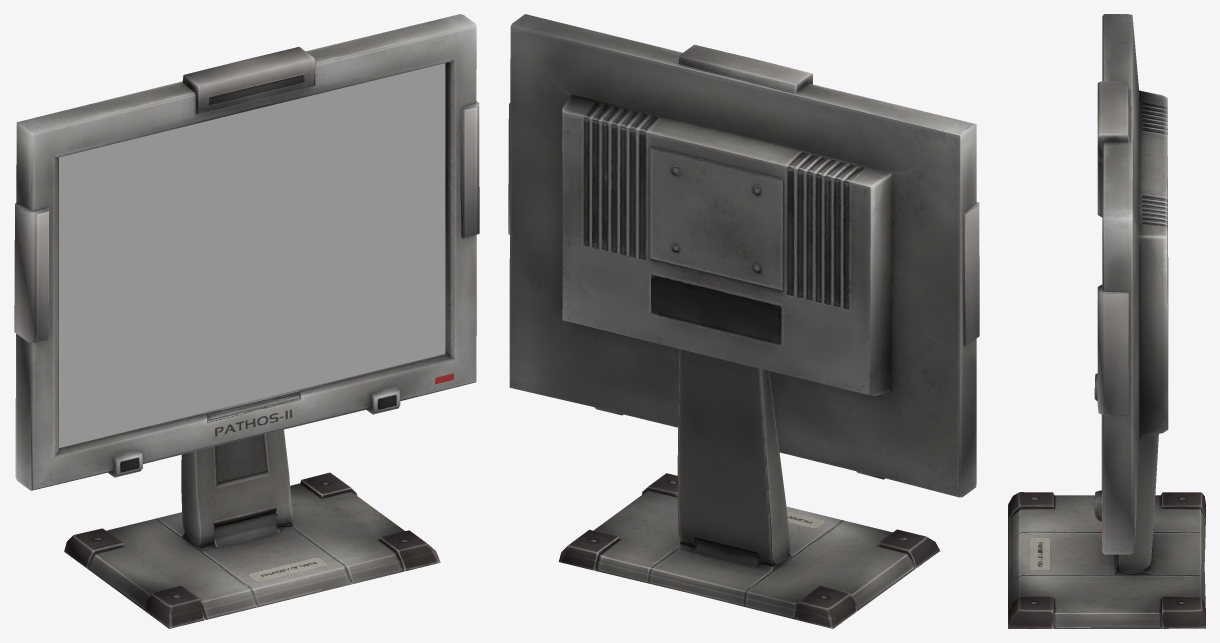
File: monitor_theta.dae
3 renders of one model, left to right at view 1: azimuth 30°, elevation 25°; view 2: azimuth 150°, elevation 25°; view 3: azimuth 270°, elevation 25°, orthographic. The views are drawn at different scales.
Visible parts, largest first — view 1: gui, monitor_theta; view 2: monitor_theta; view 3: monitor_theta.
Boxes of the visible parts, x1,y1,x2,y2 form: gui: (59, 63, 445, 447); monitor_theta: (14, 14, 479, 628); monitor_theta: (508, 14, 979, 628); monitor_theta: (1008, 14, 1205, 628).
Bounding box in the file's own units: 0.6666 × 0.6881 × 0.2689.
